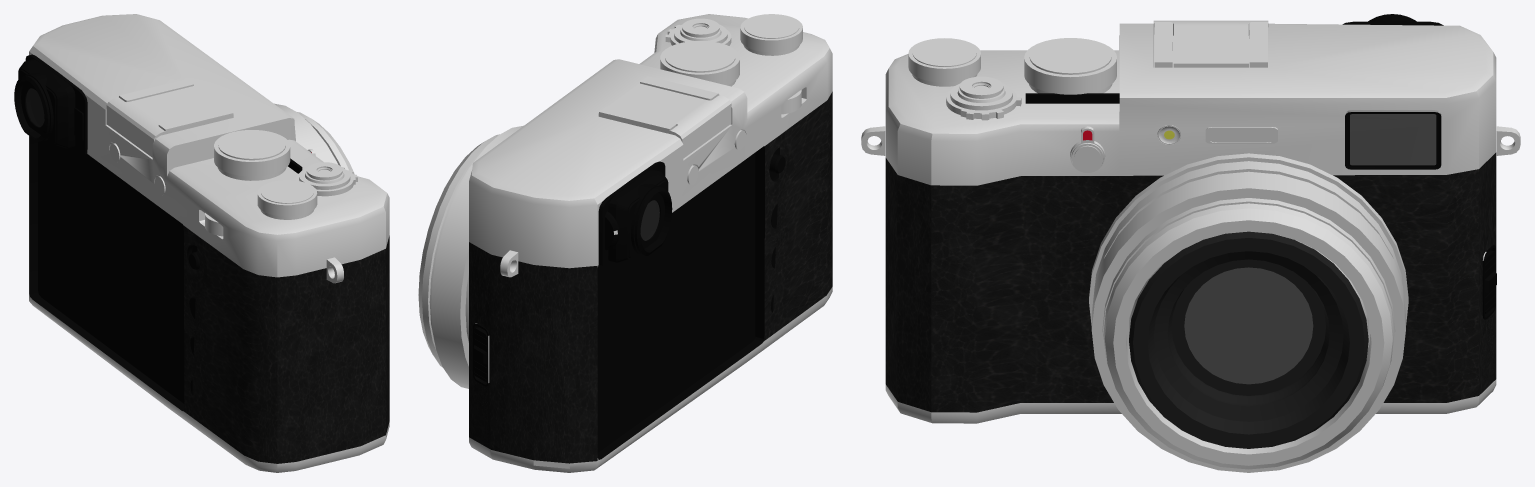
File: camara-vintage.fbx
The picture shows the model from 3 angles, left to right: view 1: azimuth 30°, elevation 25°; view 2: azimuth 150°, elevation 25°; view 3: azimuth 270°, elevation 25°; orthographic projection. The views are drawn at different scales.
Visible parts, largest first — view 1: agarradera_d; view 2: agarradera_d; view 3: agarradera_d, agarradera_d.001.
Boxes of the visible parts, x1,y1,x2,y2 form: agarradera_d: [14, 14, 389, 472]; agarradera_d: [418, 14, 832, 472]; agarradera_d: [861, 14, 1520, 472]; agarradera_d.001: [1025, 93, 1119, 103].
Bounding box in the file's own units: 0.081 × 0.0972 × 0.165.
Materials: 9 (1 with a texture image).
